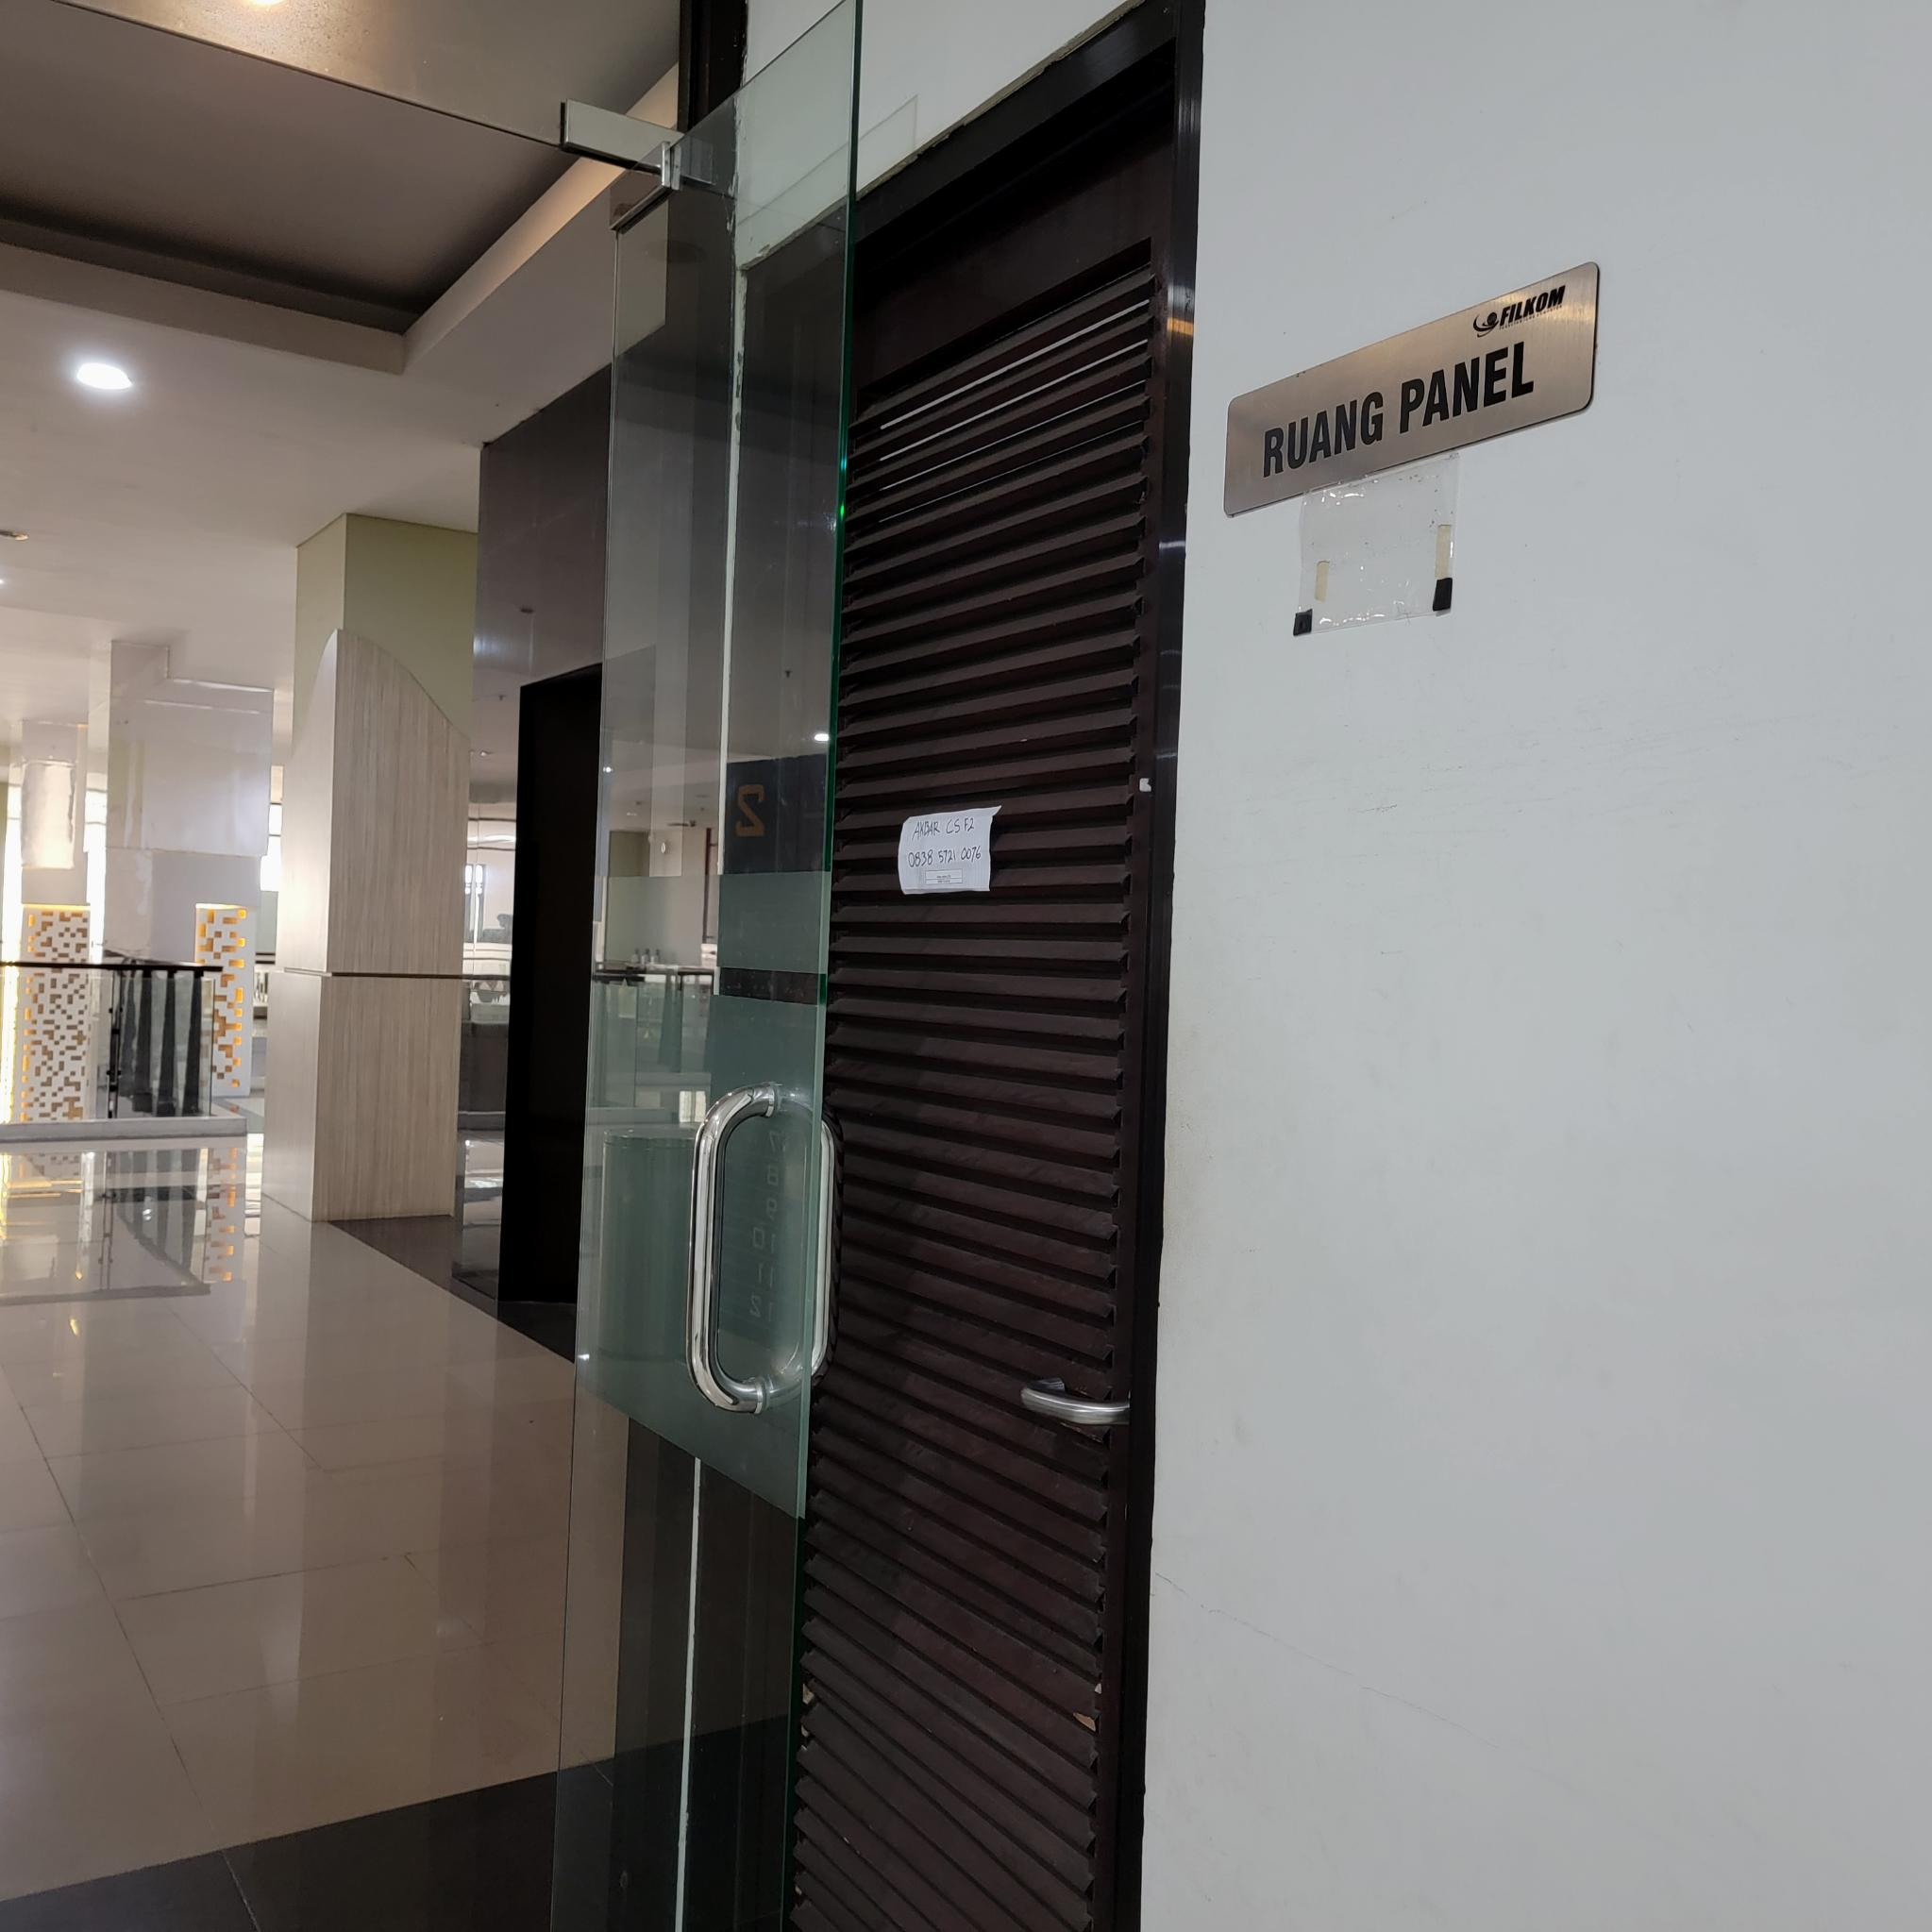plate: (1224, 257, 1601, 518)
